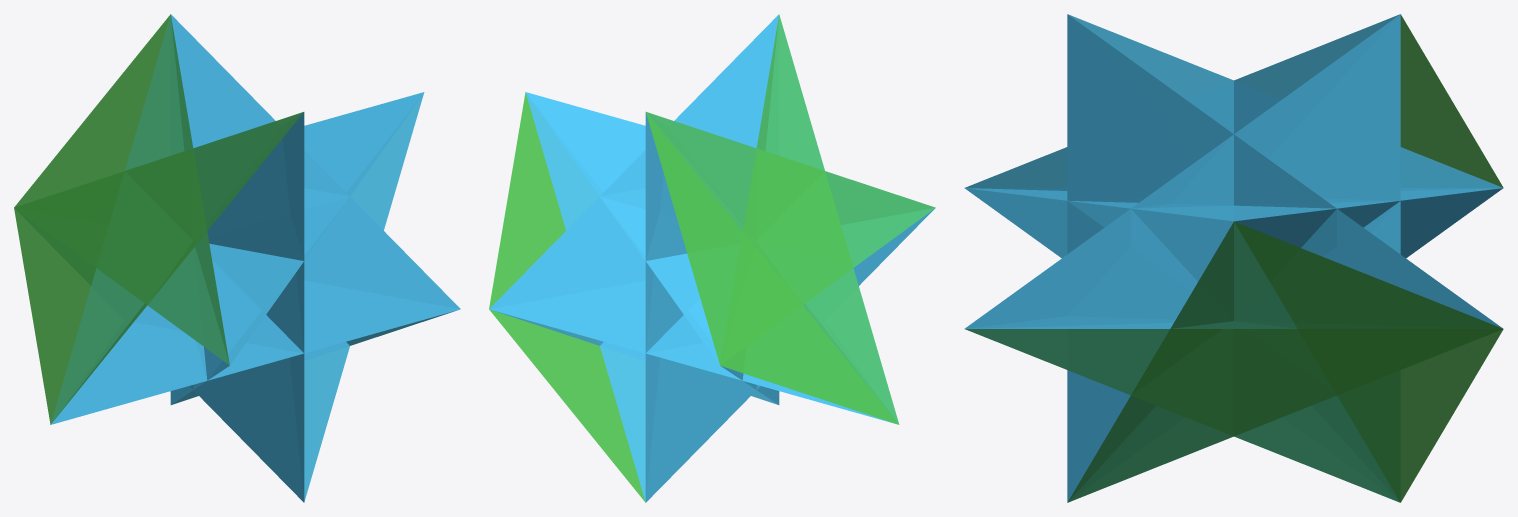
File: PentagrammicCrossedAntiprism.obj
The picture shows the model from 3 angles, left to right: view 1: azimuth 30°, elevation 25°; view 2: azimuth 150°, elevation 25°; view 3: azimuth 270°, elevation 25°; orthographic projection. The views are drawn at different scales.
Bounding box in the file's own units: 1 × 1 × 1.
